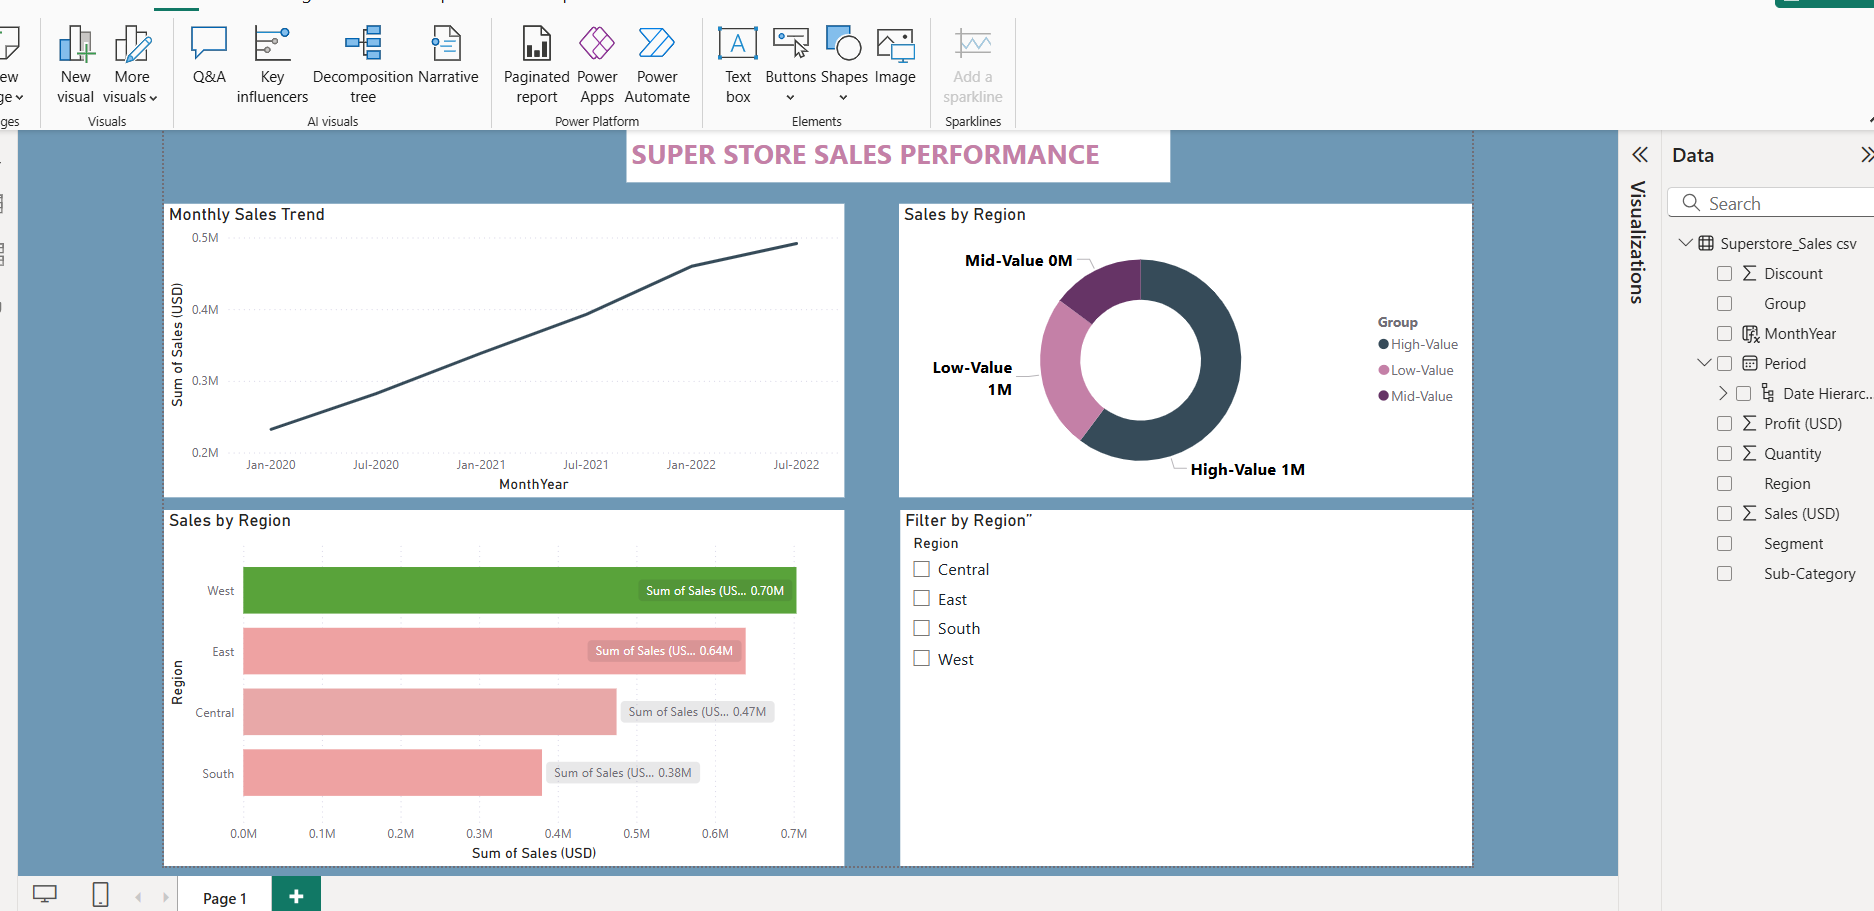

The page's visual inventory and layout, read from the dashboard file:
{"tool":"powerbi","page":{"name":"Page 1","canvas":[1280,720],"ordinal":0},"visuals":[{"type":"lineChart","title":"Monthly Sales Trend","fields":{"Category":["Superstore_Sales csv.MonthYear"],"Y":["Sum(Superstore_Sales csv.Sales (USD))"]},"box":[0,72.1,665.2,287.4],"z":0},{"type":"clusteredBarChart","title":"Sales by Region","fields":{"Category":["Superstore_Sales csv.Region"],"Y":["Sum(Superstore_Sales csv.Sales (USD))"]},"box":[0,371.9,665.5,348.5],"z":1000},{"type":"donutChart","title":"Sales by Region","fields":{"Category":["Superstore_Sales csv.Group"],"Y":["Sum(Superstore_Sales csv.Sales (USD))"]},"box":[719,72.1,561.3,287.4],"z":2000},{"type":"slicer","title":"Filter by Region”","fields":{"Values":["Superstore_Sales csv.Region"]},"box":[720.2,371.7,560.1,348.5],"z":3000},{"type":"textbox","box":[452.4,0,531.9,51.4],"z":4000}]}

Visuals, with their boxes on the page's 1280x720 design canvas (x1, y1, x2, y2). These are canvas units, not pixel positions in the 1874x911 screenshot, which may show the page scaled, cropped or inside an application window:
"Monthly Sales Trend" lineChart: box(0, 72, 665, 360)
"Sales by Region" clusteredBarChart: box(0, 372, 666, 720)
"Sales by Region" donutChart: box(719, 72, 1280, 360)
"Filter by Region”" slicer: box(720, 372, 1280, 720)
textbox: box(452, 0, 984, 51)
